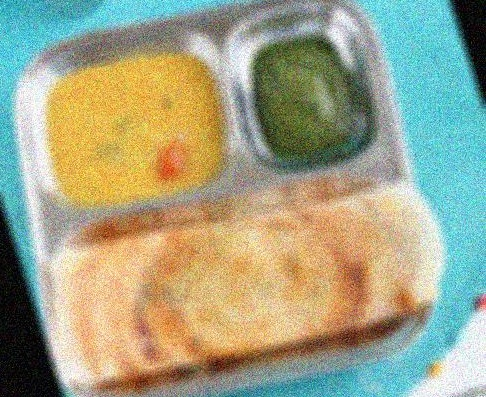dosa: (39, 186, 445, 393)
